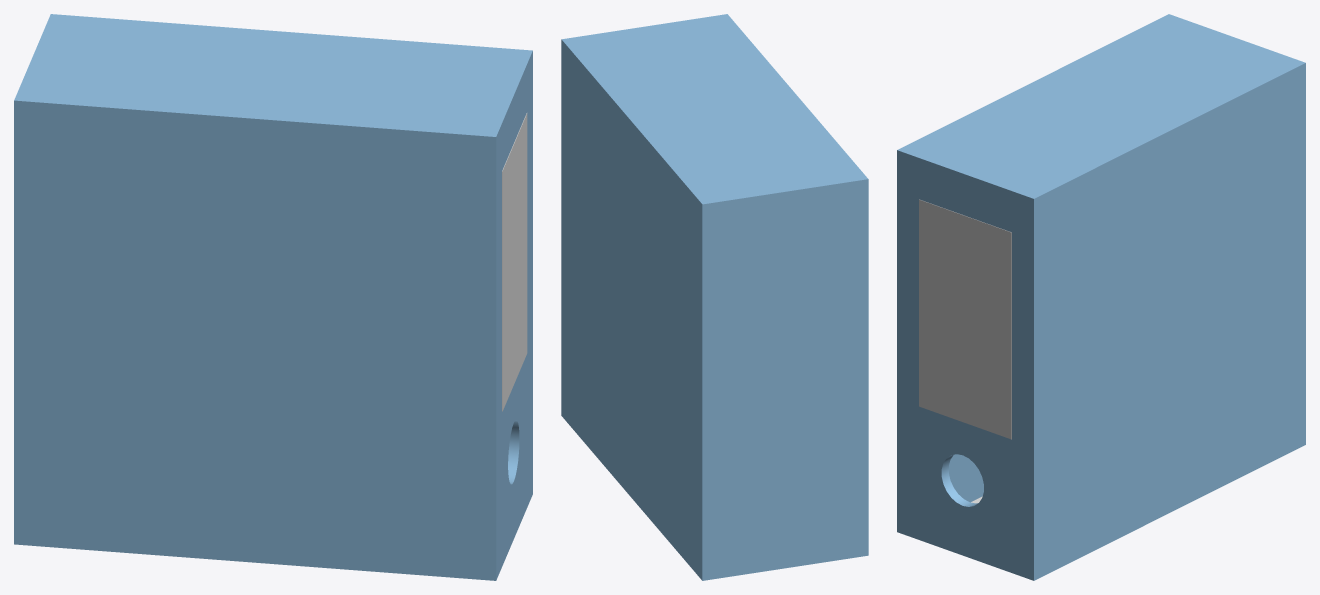
The model's file is dossier2.fbx.
3 renders of one model, left to right at view 1: azimuth 30°, elevation 25°; view 2: azimuth 150°, elevation 25°; view 3: azimuth 270°, elevation 25°, orthographic. The views are drawn at different scales.
Visible parts, largest first — view 1: Cube.009; view 2: Cube.009; view 3: Cube.009.
Boxes of the visible parts, box(x1,y1,x2,y2) form: Cube.009: box(14, 14, 532, 580); Cube.009: box(561, 14, 868, 580); Cube.009: box(897, 14, 1305, 580).
Bounding box in the file's own units: 0.463 × 0.4324 × 0.446.
